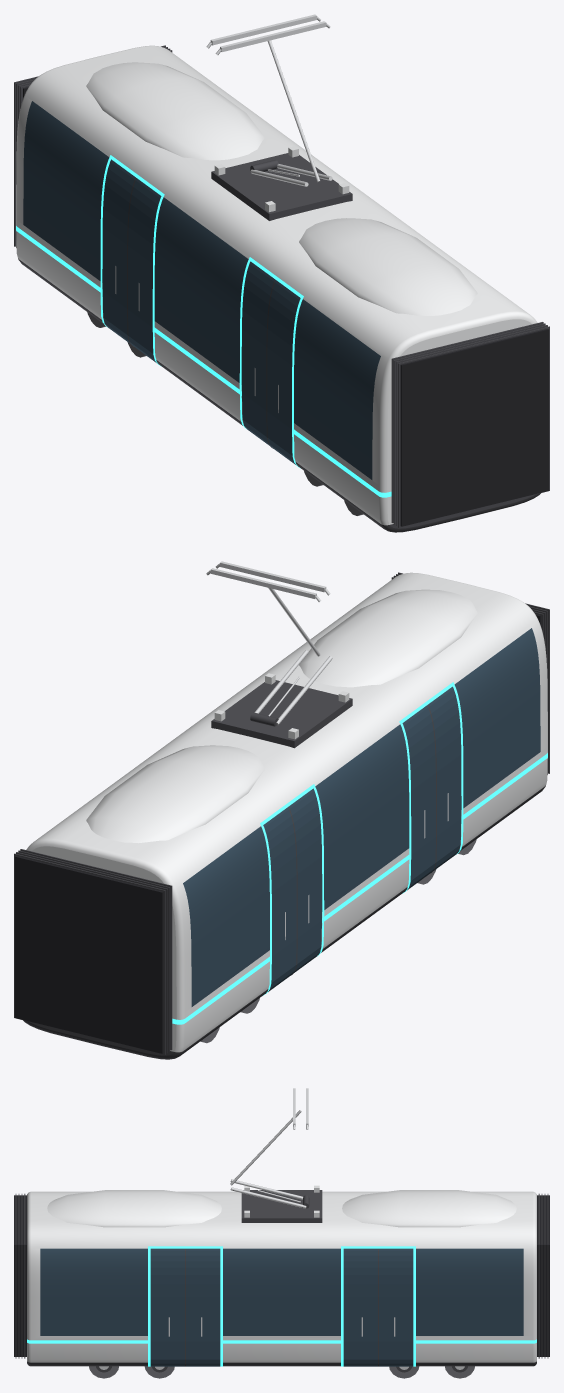
Rendered from 311_close.fbx.
3 renders of one model, top to bottom at view 1: azimuth 30°, elevation 25°; view 2: azimuth 150°, elevation 25°; view 3: azimuth 270°, elevation 25°, orthographic. The views are drawn at different scales.
Parts seen in each view (by area): view 1: 311_close; view 2: 311_close; view 3: 311_close.
Boxes of the visible parts, left/top/right/bottom form: 311_close: left=14, top=14, right=549, bottom=532; 311_close: left=14, top=561, right=549, bottom=1059; 311_close: left=14, top=1088, right=549, bottom=1378.
Size of the model in its own units: 2.53 by 5.21 by 10.
